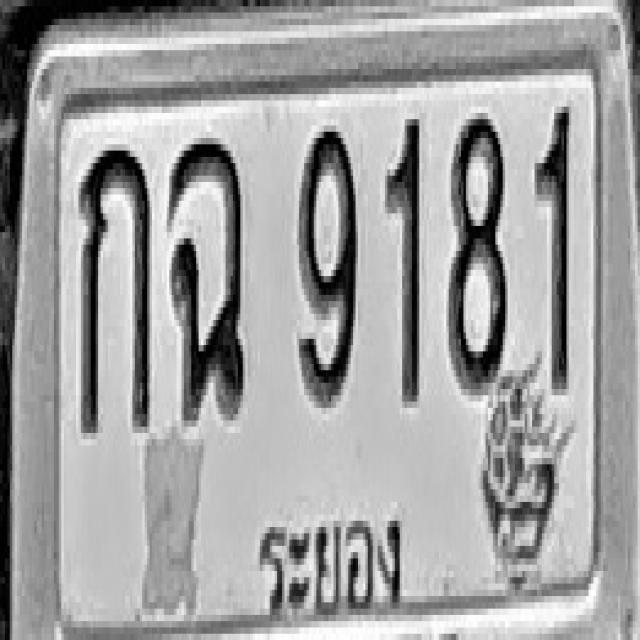1: (533, 100, 570, 389), (385, 116, 419, 405)
10GorGai: (80, 144, 150, 433)
18ChorChing: (168, 135, 244, 417)
8: (448, 110, 507, 392)
9: (298, 126, 357, 402)
Rayong: (245, 499, 414, 635)
